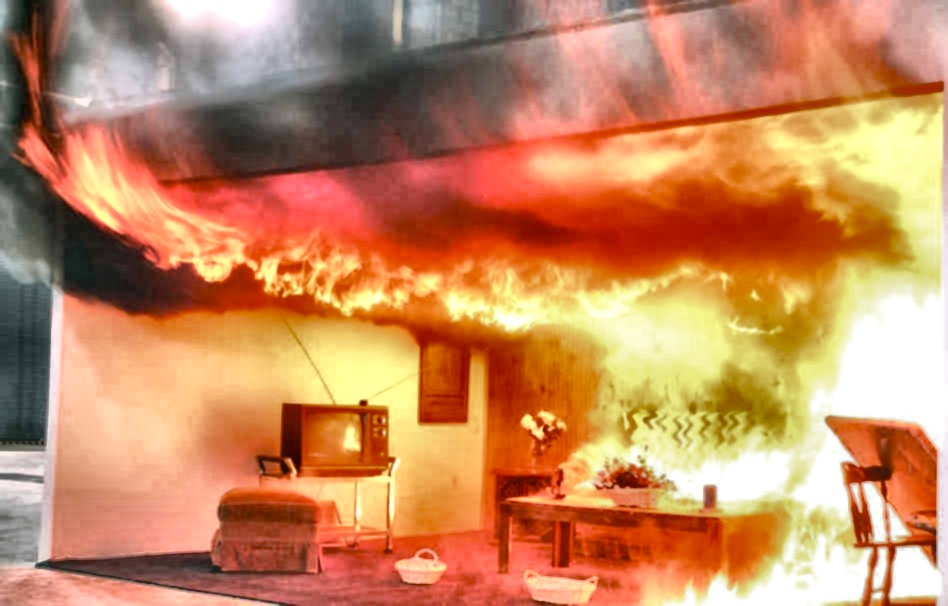fire: (613, 137, 948, 538), (37, 117, 541, 320)
